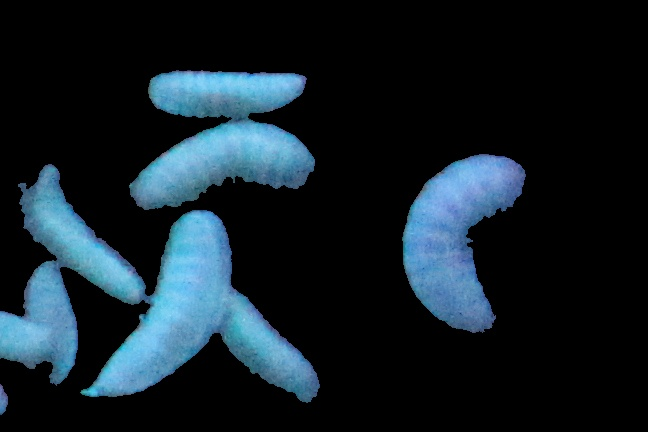larvae: (86, 213, 232, 405), (399, 154, 524, 337), (19, 178, 152, 312), (132, 119, 314, 205), (222, 288, 319, 405), (146, 72, 309, 117), (19, 263, 78, 379)
